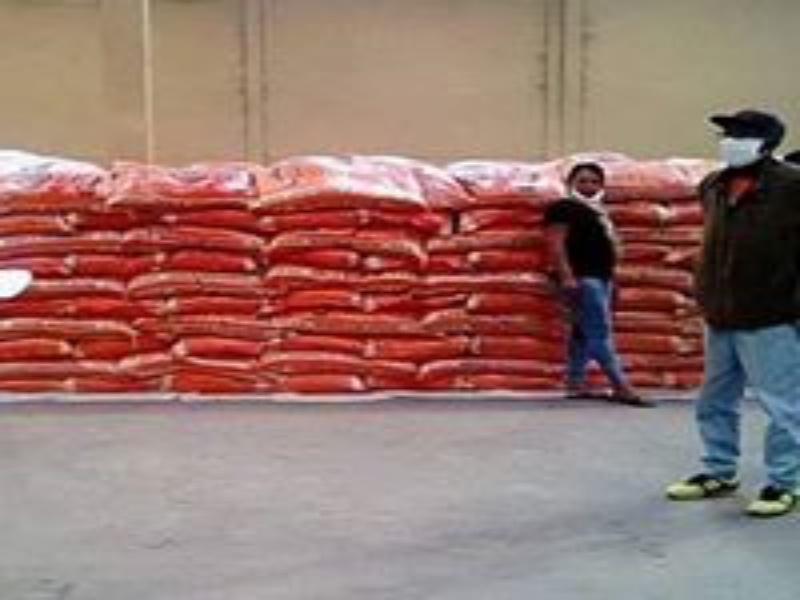ManaoArotava: (709, 105, 773, 183)
